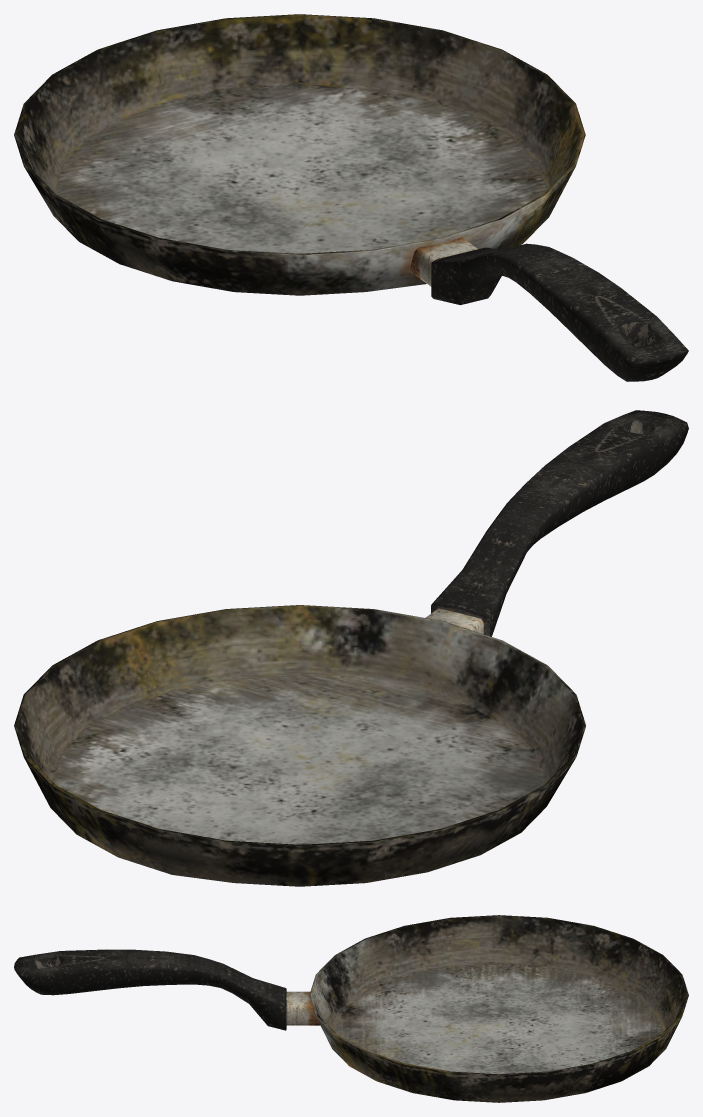
Rendered from cookingpot01d.mtl.obj.
The picture shows the model from 3 angles, top to bottom: view 1: azimuth 30°, elevation 25°; view 2: azimuth 150°, elevation 25°; view 3: azimuth 270°, elevation 25°; orthographic projection. The views are drawn at different scales.
Visible parts, largest first — view 1: LODGroup_1_MainMesh_1_Submesh_1; view 2: LODGroup_1_MainMesh_1_Submesh_1; view 3: LODGroup_1_MainMesh_1_Submesh_1.
Boxes of the visible parts, x1,y1,x2,y2 form: LODGroup_1_MainMesh_1_Submesh_1: (14, 14, 688, 381); LODGroup_1_MainMesh_1_Submesh_1: (14, 410, 688, 886); LODGroup_1_MainMesh_1_Submesh_1: (14, 915, 688, 1102).
Size of the model in its own units: 30.66 by 6.91 by 54.51.
1 material, 1 textured.
